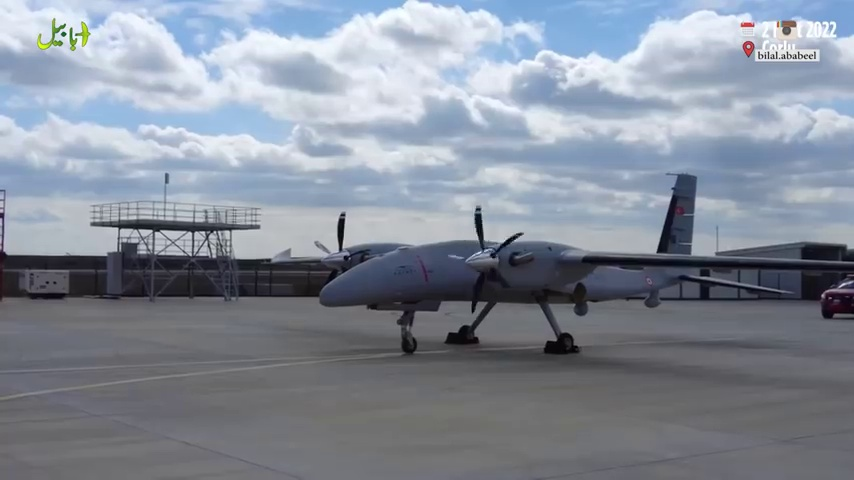military drone: (260, 171, 854, 354)
